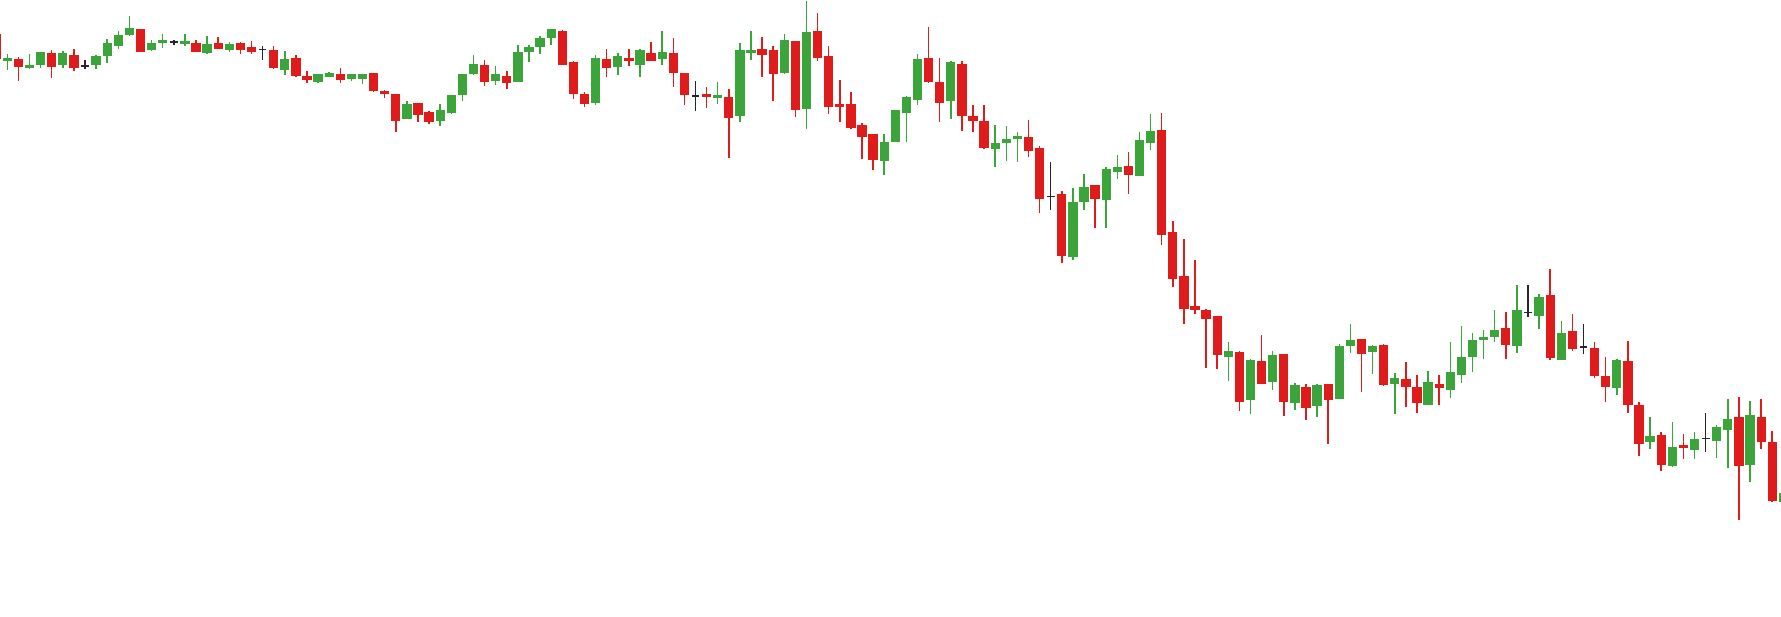sell: (657, 1, 822, 91)
